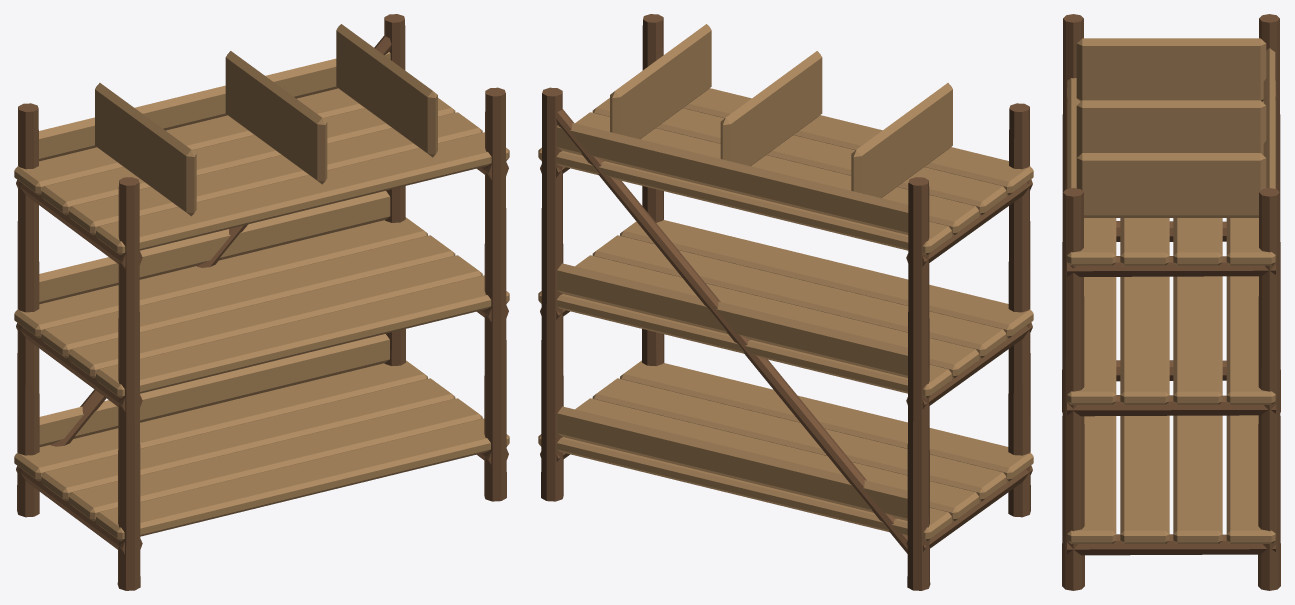
The picture shows the model from 3 angles, left to right: view 1: azimuth 30°, elevation 25°; view 2: azimuth 150°, elevation 25°; view 3: azimuth 270°, elevation 25°; orthographic projection. The views are drawn at different scales.
Parts seen in each view (by area): view 1: BA-0069 batched; view 2: BA-0069 batched; view 3: BA-0069 batched.
Part boxes in pixels (left/top/right/bottom): BA-0069 batched: left=14, top=14, right=509, bottom=590; BA-0069 batched: left=538, top=14, right=1033, bottom=590; BA-0069 batched: left=1062, top=14, right=1280, bottom=590.
Size of the model in its own units: 1.35 by 1.37 by 0.67.
